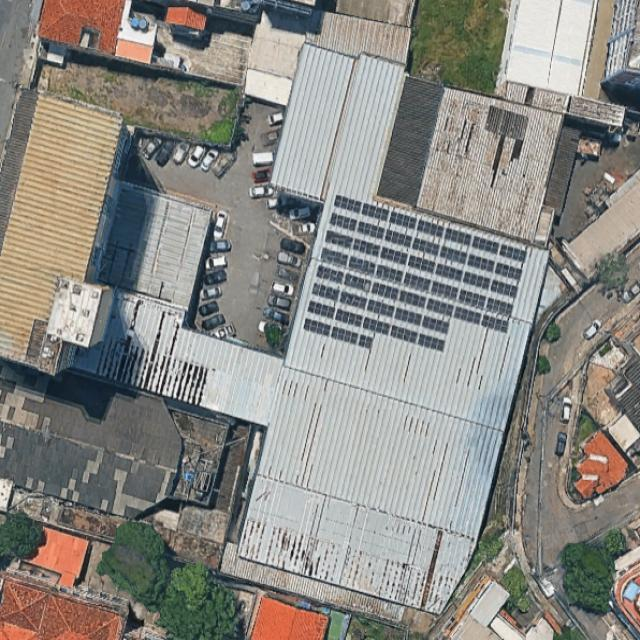painel: (304, 196, 528, 353)
